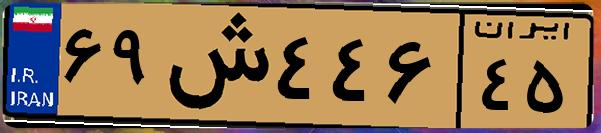4: (270, 28, 330, 110), (330, 28, 385, 110), (475, 38, 525, 113)
5: (525, 38, 570, 115)
6: (385, 28, 445, 110), (57, 26, 110, 100)
9: (110, 28, 158, 98)
ش: (158, 12, 270, 120)
